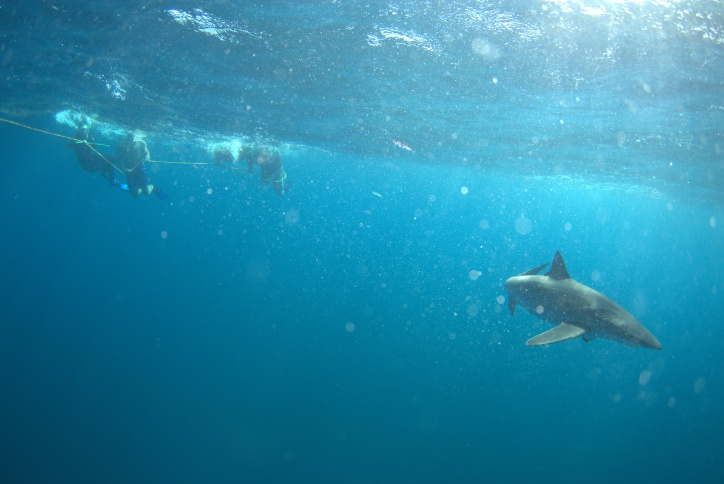Sedoso: (482, 248, 683, 370)
